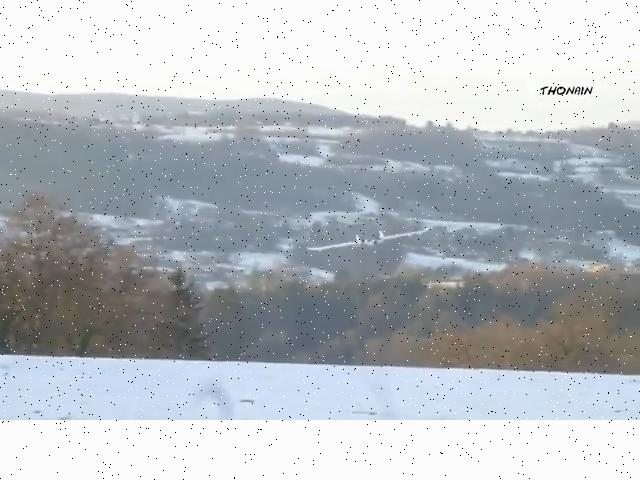Anti-Drone: (297, 218, 439, 256)
